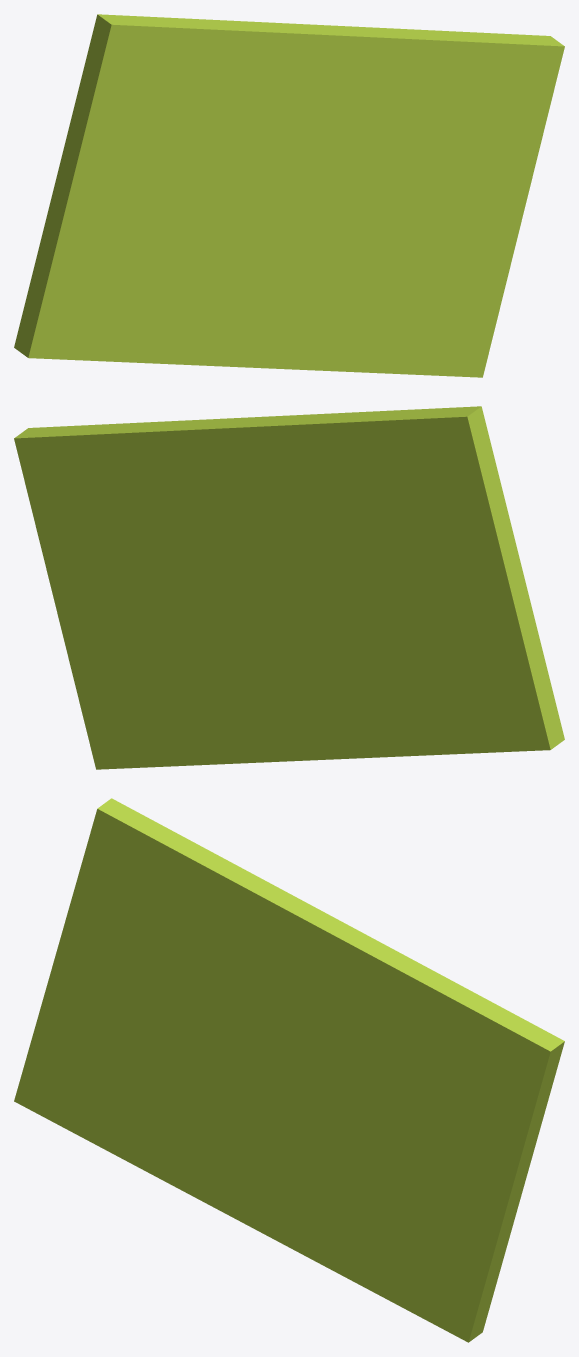
3 renders of one model, top to bottom at view 1: azimuth 30°, elevation 25°; view 2: azimuth 150°, elevation 25°; view 3: azimuth 330°, elevation 25°, orthographic.
Parts seen in each view (by area): view 1: osm-way27917482-F0; view 2: osm-way27917482-F0; view 3: osm-way27917482-F0.
Boxes of the visible parts, x1,y1,x2,y2 form: osm-way27917482-F0: (14, 14, 564, 377); osm-way27917482-F0: (14, 406, 564, 769); osm-way27917482-F0: (14, 798, 564, 1342).
Bounding box in the file's own units: 3.25 × 2.57 × 0.15.
